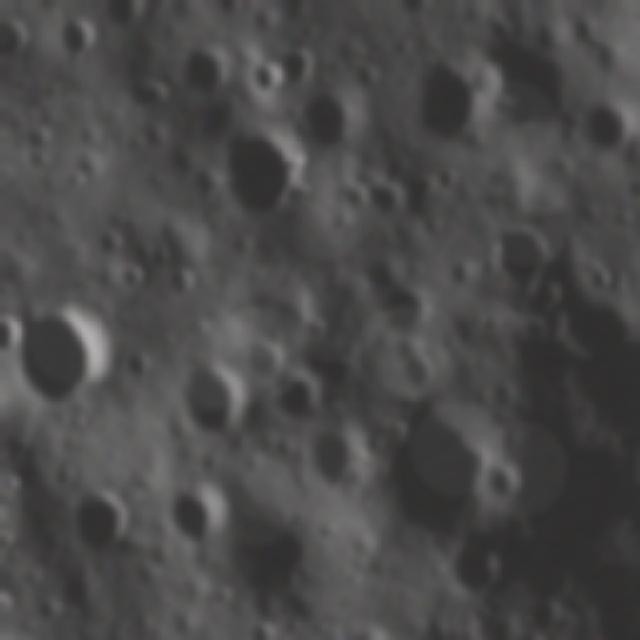crater: (373, 409, 487, 537), (6, 306, 116, 405), (477, 35, 571, 136), (216, 121, 298, 221), (411, 55, 498, 148), (172, 358, 243, 438), (290, 82, 362, 158), (295, 418, 363, 498), (486, 215, 556, 287), (165, 486, 232, 552), (64, 487, 128, 553), (253, 292, 316, 354), (442, 541, 507, 594), (579, 100, 632, 162), (177, 39, 229, 98), (299, 340, 355, 394), (372, 282, 428, 336), (272, 371, 322, 424), (382, 343, 433, 394), (482, 454, 529, 506), (272, 43, 318, 92), (242, 337, 288, 383), (153, 264, 204, 304), (525, 587, 566, 636), (360, 171, 405, 215), (115, 346, 160, 388), (57, 11, 95, 58), (526, 272, 562, 318), (248, 55, 283, 100), (126, 77, 166, 114), (103, 3, 146, 34), (107, 262, 142, 292), (585, 255, 612, 292), (89, 226, 122, 254)
